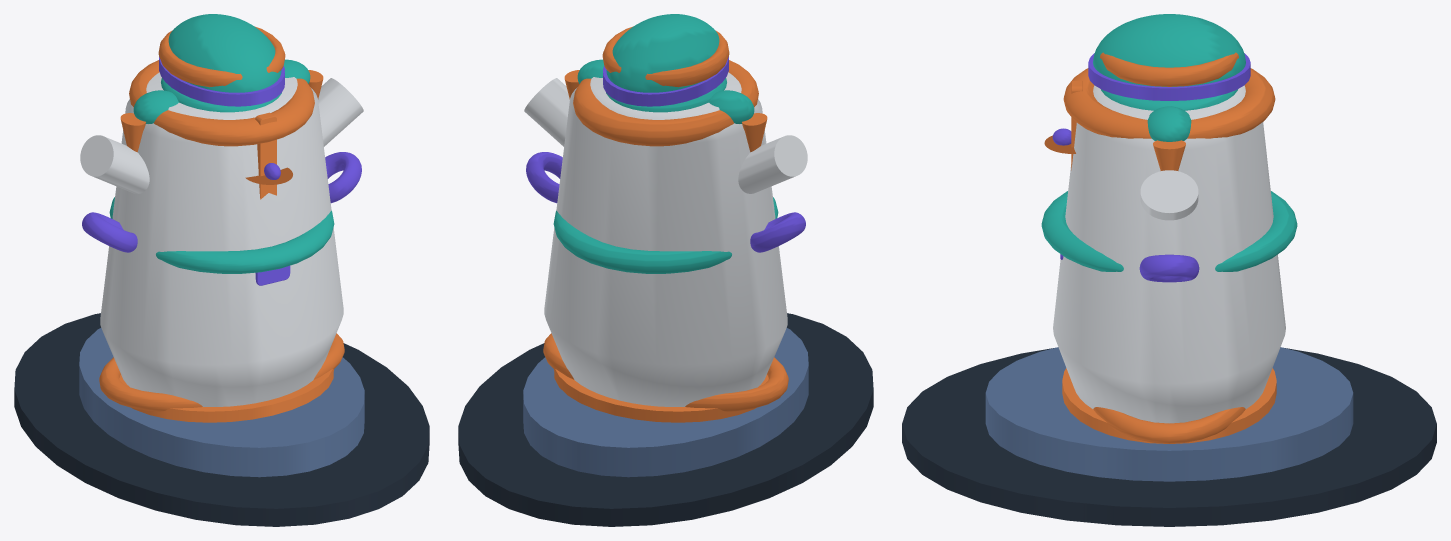
Rendered from 0600_考古图鉴_龙形器.glb.
The picture shows the model from 3 angles, left to right: view 1: azimuth 30°, elevation 25°; view 2: azimuth 150°, elevation 25°; view 3: azimuth 270°, elevation 25°; orthographic projection. The views are drawn at different scales.
Visible parts, largest first — view 1: card_0600; view 2: card_0600; view 3: card_0600.
Part boxes in pixels (x1,y1,x2,y2): card_0600: (14,14,429,526); card_0600: (458,14,873,526); card_0600: (902,14,1436,526).
Bounding box in the file's own units: 0.8564 × 1 × 1.15.
